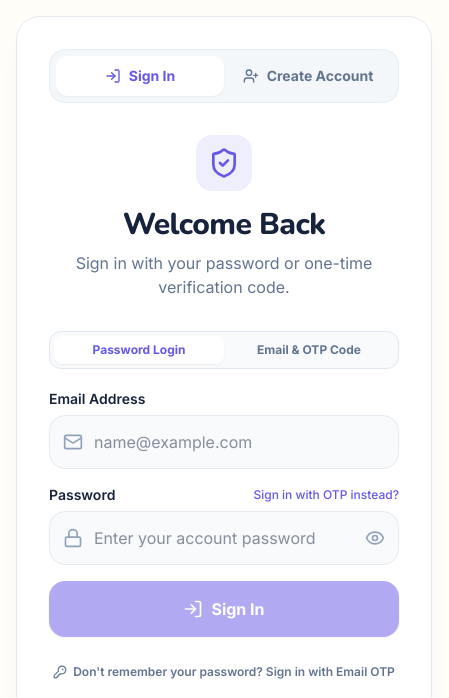
Scenario: LoginPage Component › shows No Account Found and suggests Create Account when login fails with USER_NOT_FOUND
Step 1. Type "newuser@example.com" into the field with placeholder "name@example.com" → (224, 442), box [49, 415, 399, 469]
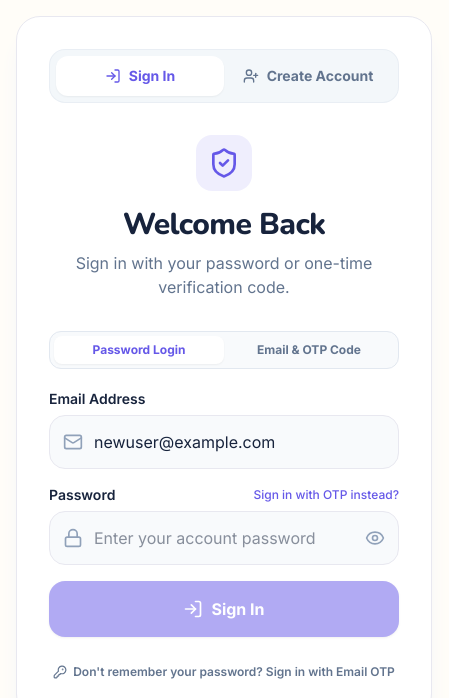
Step 2. Type "somePassword123" into the password field with placeholder "Enter your account password" → (224, 538), box [49, 511, 399, 565]
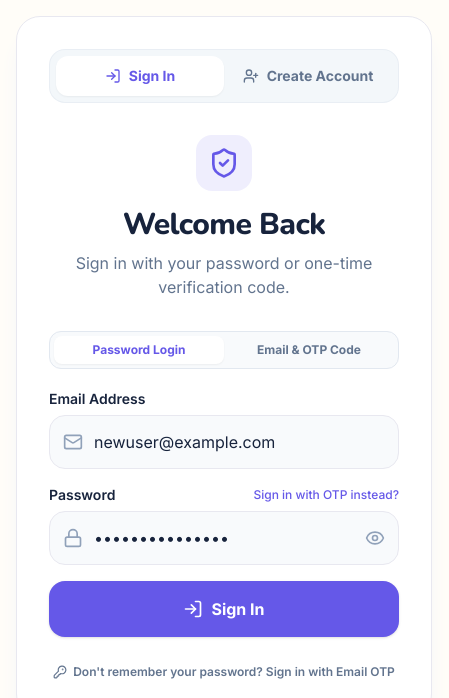
Step 3. Click the button with test id "password-login-submit" → (224, 609), box [49, 581, 399, 637]
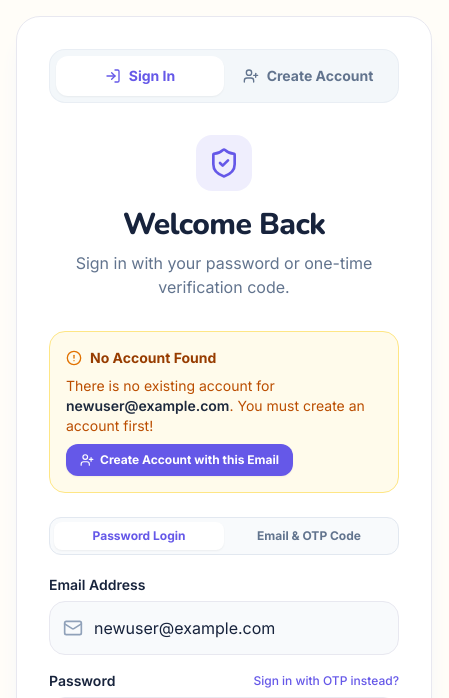
Now the text "No Account Found" is shown, box [66, 349, 216, 366]
Now the button "Create Account with this Email" is shown
// Clicking "Create Account with this Email" switches mode to Create Account
Step 4. Click the button "Create Account with this Email" → (179, 460), box [66, 444, 293, 476]
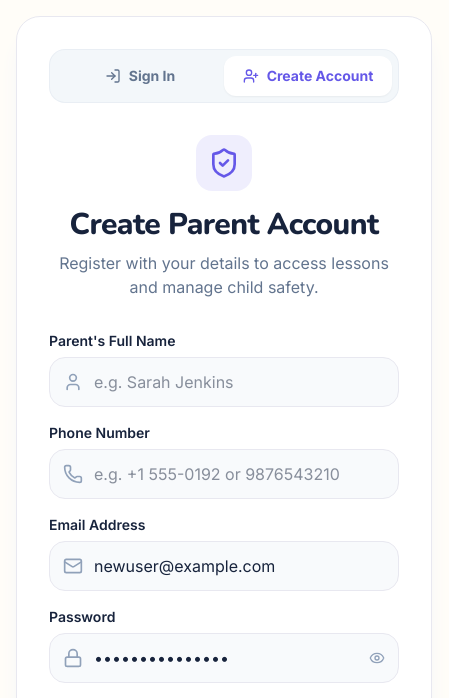
Now the heading "Create Parent Account" is shown, box [49, 207, 399, 243]
